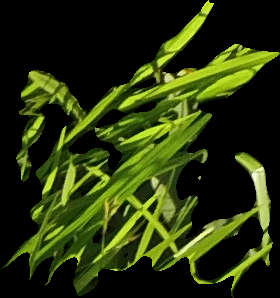grass: (1, 1, 279, 296)
